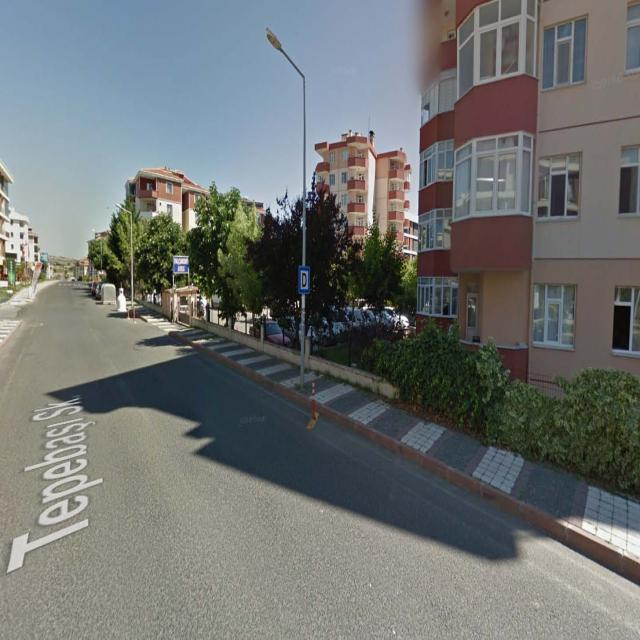durak: (298, 266, 310, 294)
